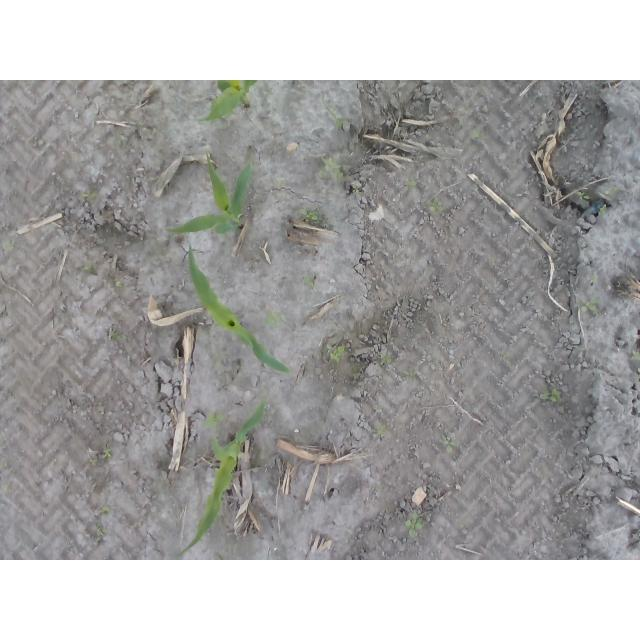Maize: (177, 401, 267, 556), (188, 239, 289, 373), (166, 150, 255, 234), (198, 80, 259, 121)
Weeds: (319, 158, 344, 179), (403, 511, 422, 537), (579, 294, 603, 314), (269, 313, 288, 328), (202, 414, 223, 427), (331, 345, 346, 363), (543, 391, 562, 404), (304, 211, 321, 225), (81, 188, 96, 200), (112, 332, 129, 342), (81, 263, 95, 273), (444, 437, 455, 448), (577, 191, 588, 201), (598, 204, 607, 216), (432, 199, 441, 210), (336, 119, 344, 130), (384, 354, 392, 364), (104, 449, 112, 456)
